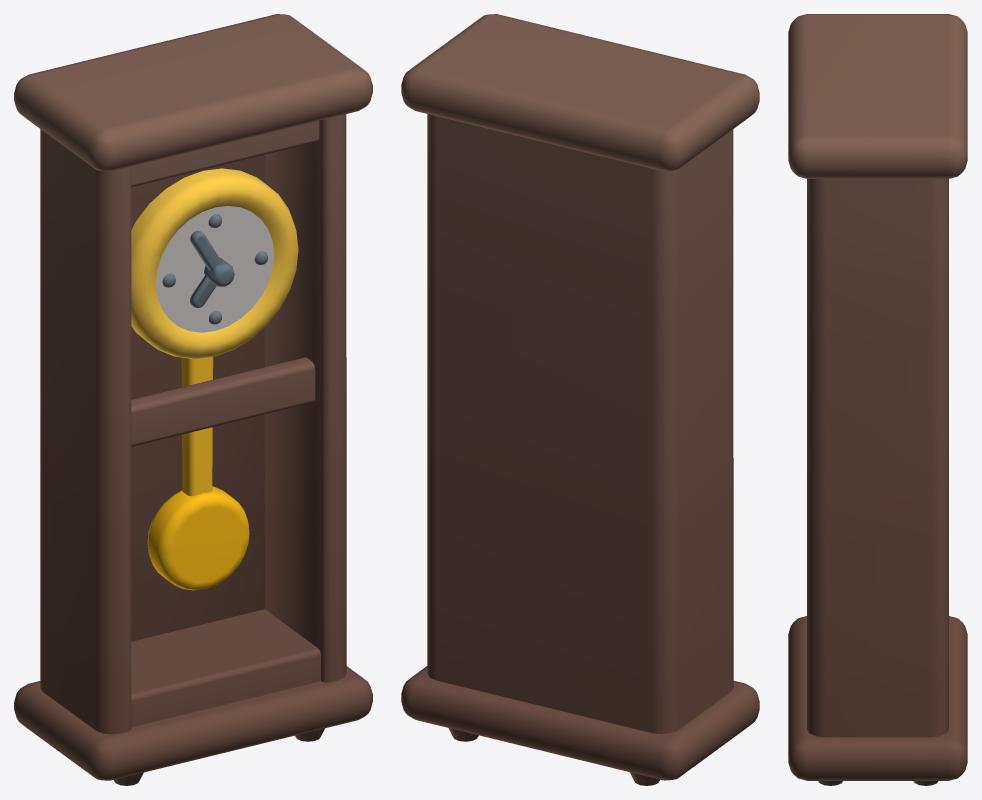
The model's file is Clock_03.glb.
3 views of the same model, side by side, from view 1: azimuth 30°, elevation 25°; view 2: azimuth 150°, elevation 25°; view 3: azimuth 270°, elevation 25° (orthographic).
Parts seen in each view (by area): view 1: Clock_03; view 2: Clock_03; view 3: Clock_03.
Boxes of the visible parts, x1,y1,x2,y2 form: Clock_03: [14, 14, 372, 785]; Clock_03: [401, 14, 759, 785]; Clock_03: [788, 14, 967, 785].
Size of the model in its own units: 0.68 by 1.55 by 0.3799.
1 material, 1 textured.
